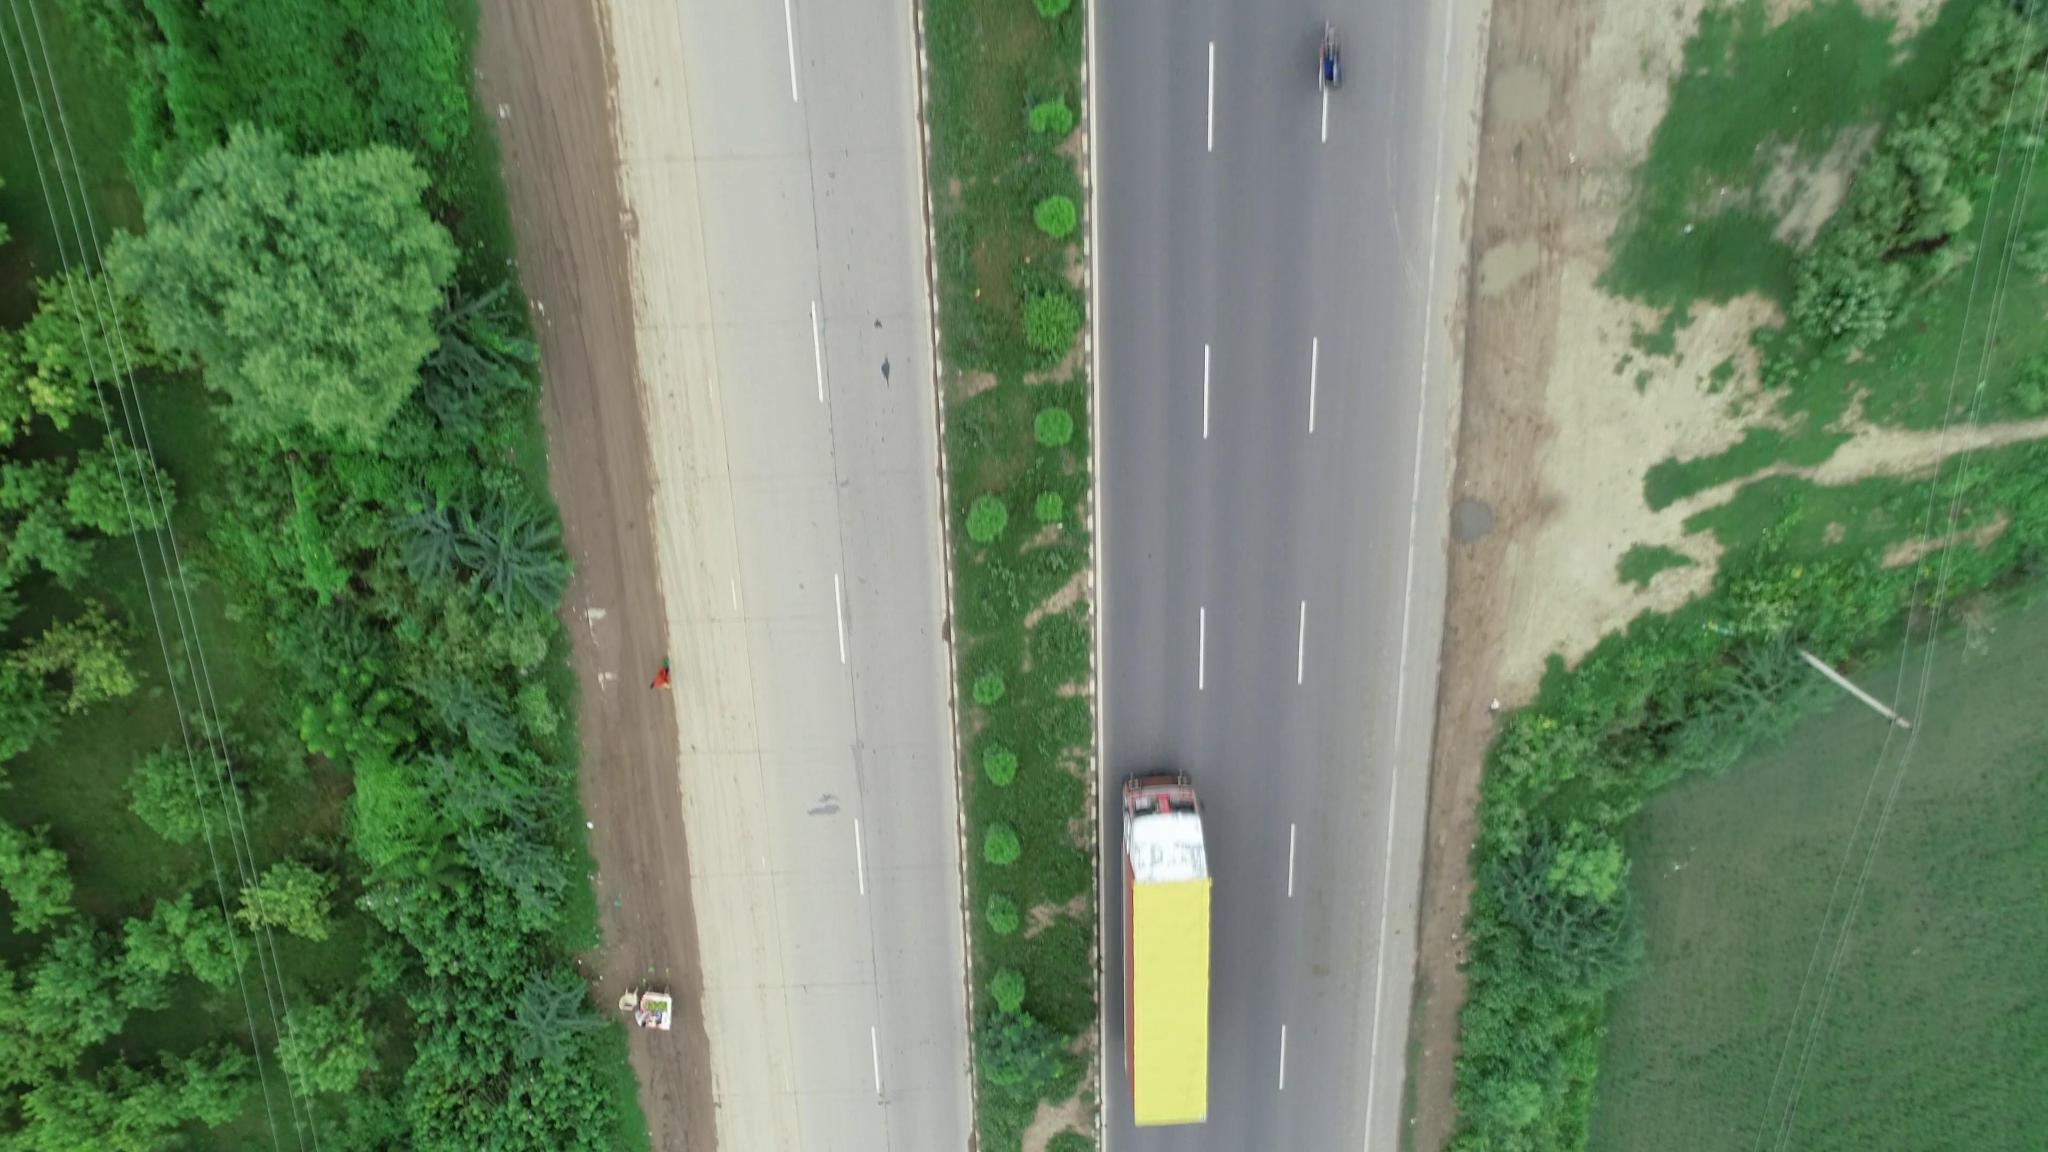Muddy_road: (540, 421, 724, 841), (499, 18, 693, 408)
